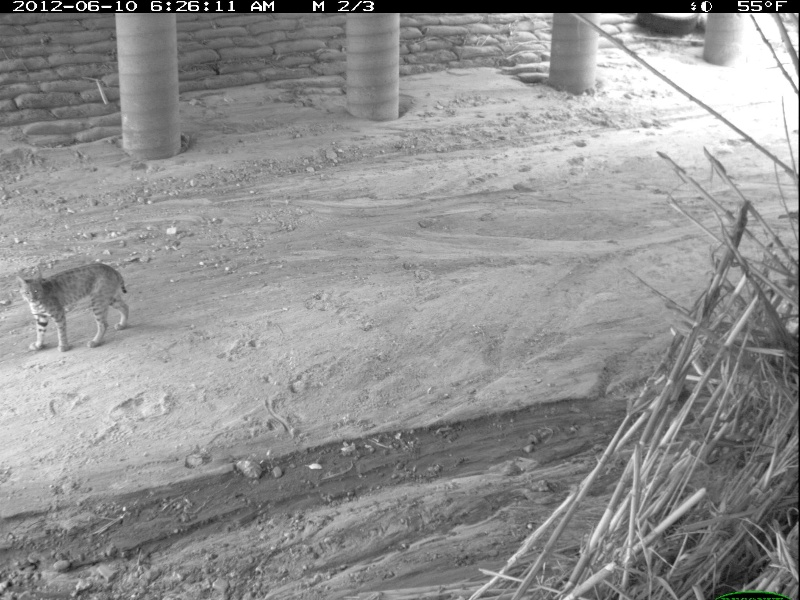cat: (14, 261, 134, 353)
